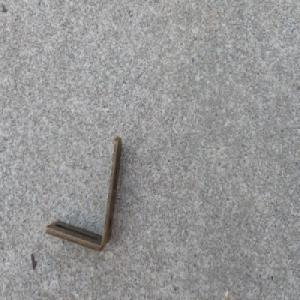MetalPart: (44, 135, 123, 253)
